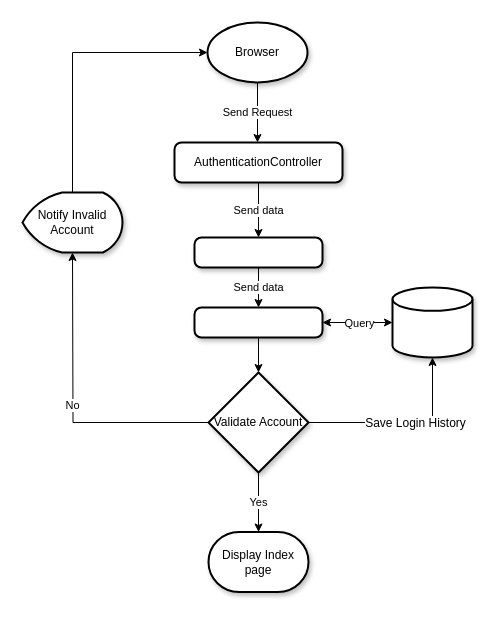
Some shapes in this 496 by 617 pixel diagram are drawn without their labels. Each missing label, with the centre of its shape:
Database: pixel 433 323
GenericRepository: pixel 259 323
UserService: pixel 259 253
